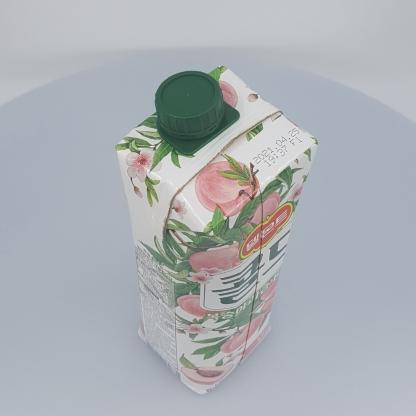-------------100_: (115, 65, 318, 394)
